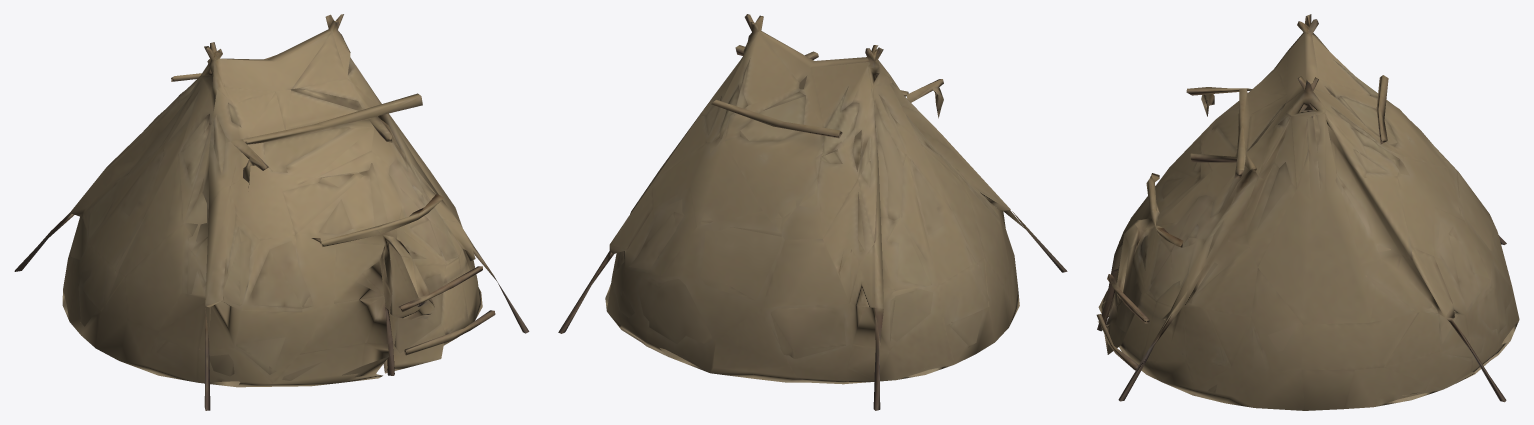
Rendered from prp_tent_a.glb.
The picture shows the model from 3 angles, left to right: view 1: azimuth 30°, elevation 25°; view 2: azimuth 150°, elevation 25°; view 3: azimuth 270°, elevation 25°; orthographic projection. The views are drawn at different scales.
Visible parts, largest first — view 1: prp_tent_a; view 2: prp_tent_a; view 3: prp_tent_a.
Part boxes in pixels (<box>): prp_tent_a: <box>14,14,529,410</box>; prp_tent_a: <box>558,14,1067,410</box>; prp_tent_a: <box>1096,14,1519,410</box>.
Size of the model in its own units: 4.15 by 3 by 4.17.
Materials: 1 (1 with a texture image).
